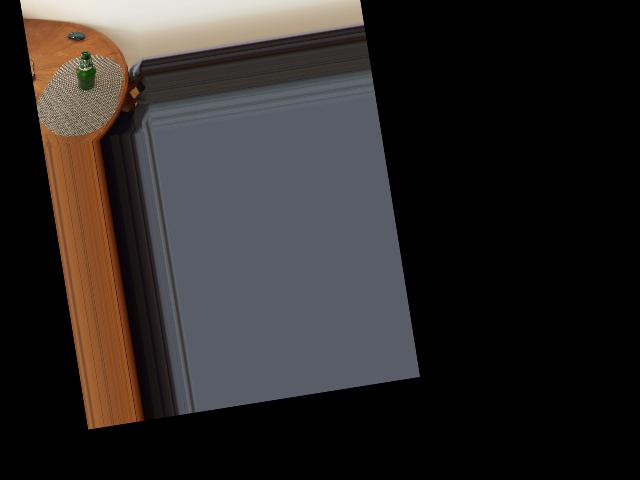beer: (71, 49, 99, 91)
